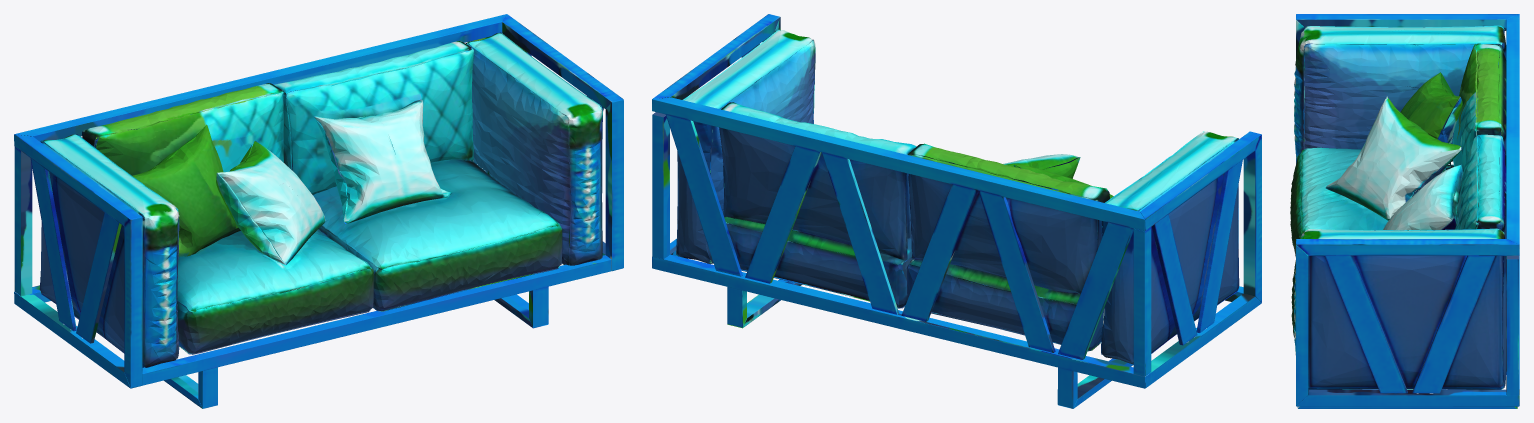
Rendered from edited_mesh.glb.
3 views of the same model, side by side, from view 1: azimuth 30°, elevation 25°; view 2: azimuth 150°, elevation 25°; view 3: azimuth 270°, elevation 25° (orthographic). The views are drawn at different scales.
Visible parts, largest first — view 1: solid_001_wire; view 2: solid_001_wire; view 3: solid_001_wire.
Part boxes in pixels (box(x1,y1,x2,y2)): solid_001_wire: box(14, 14, 623, 408); solid_001_wire: box(652, 14, 1261, 408); solid_001_wire: box(1290, 14, 1519, 408).
Size of the model in its own units: 2 by 0.8164 by 0.8409.
1 material, 1 textured.
